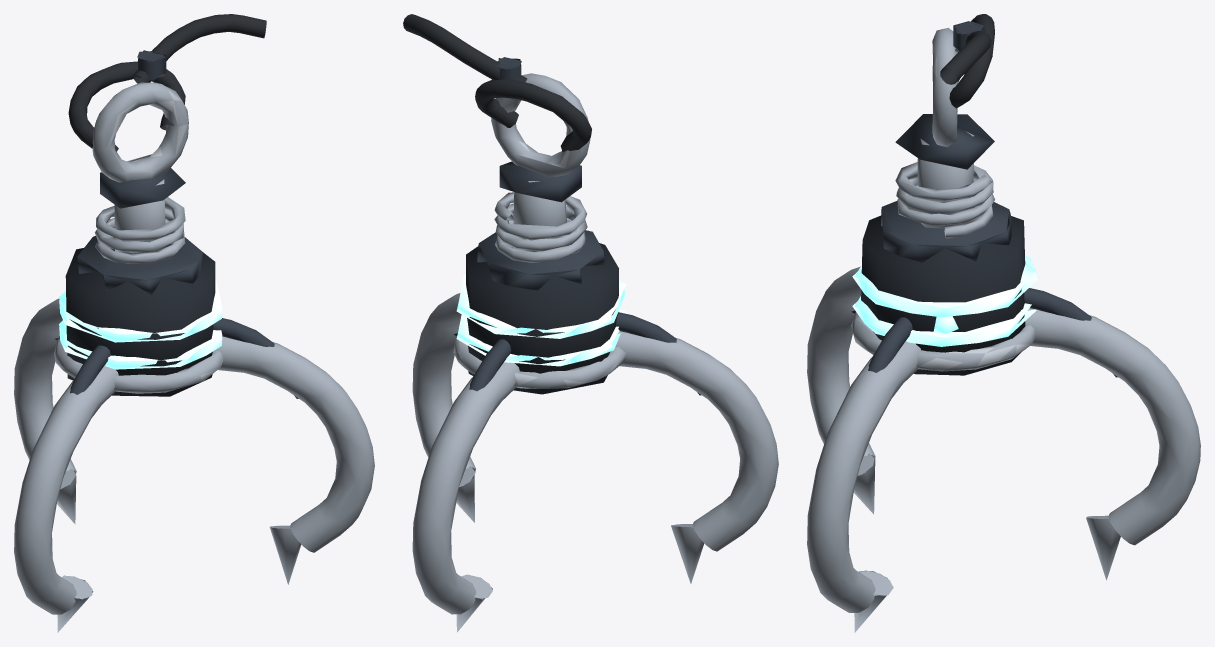
File: hook.glb
3 renders of one model, left to right at view 1: azimuth 30°, elevation 25°; view 2: azimuth 150°, elevation 25°; view 3: azimuth 270°, elevation 25°, orthographic. The views are drawn at different scales.
Parts seen in each view (by area): view 1: cubo, una_3, una_2, anilla, una_1, muelle, tapa, lazo, collar, cable, banda_2, tuerca (+8 smaller); view 2: cubo, una_2, una_1, una_3, muelle, anilla, tapa, lazo, collar, tuerca, cable, banda_2 (+7 smaller); view 3: una_1, una_3, cubo, una_2, muelle, tapa, collar, tuerca, banda_2, banda_1, anilla, eje (+7 smaller).
Boxes of the visible parts, x1,y1,x2,y2 form: cubo: [65, 248, 215, 396]; una_3: [213, 336, 374, 552]; una_2: [14, 364, 118, 614]; anilla: [92, 82, 188, 182]; una_1: [14, 298, 76, 473]; muelle: [94, 197, 185, 263]; tapa: [77, 236, 202, 294]; lazo: [68, 61, 185, 151]; collar: [54, 336, 223, 393]; cable: [133, 14, 266, 83]; banda_2: [58, 280, 222, 342]; tuerca: [100, 168, 185, 208]; cubo: [466, 243, 618, 394]; una_2: [615, 331, 778, 551]; una_1: [412, 362, 519, 614]; una_3: [412, 293, 475, 471]; muelle: [494, 192, 587, 262]; anilla: [491, 73, 590, 176]; tapa: [477, 230, 604, 290]; lazo: [475, 79, 591, 151]; collar: [453, 337, 626, 388]; tuerca: [499, 161, 581, 202]; cable: [403, 14, 527, 82]; banda_2: [456, 274, 626, 338]; una_1: [1025, 308, 1200, 545]; una_3: [807, 341, 920, 612]; cubo: [861, 215, 1025, 375]; una_2: [807, 266, 875, 457]; muelle: [895, 162, 994, 238]; tapa: [881, 201, 1011, 262]; collar: [851, 312, 1035, 371]; tuerca: [895, 114, 994, 169]; banda_2: [852, 255, 1037, 317]; banda_1: [852, 287, 1036, 346]; anilla: [932, 27, 957, 147]; eje: [917, 131, 974, 228].
Size of the model in its own units: 0.4942 by 0.7094 by 0.4343.
